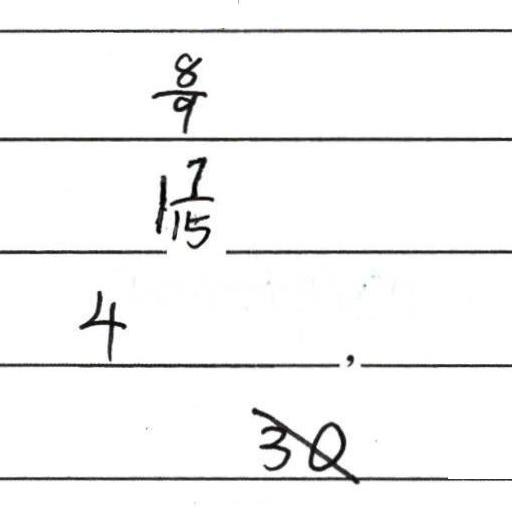ans: (147, 150, 216, 250), (147, 45, 207, 133), (74, 285, 127, 359)
